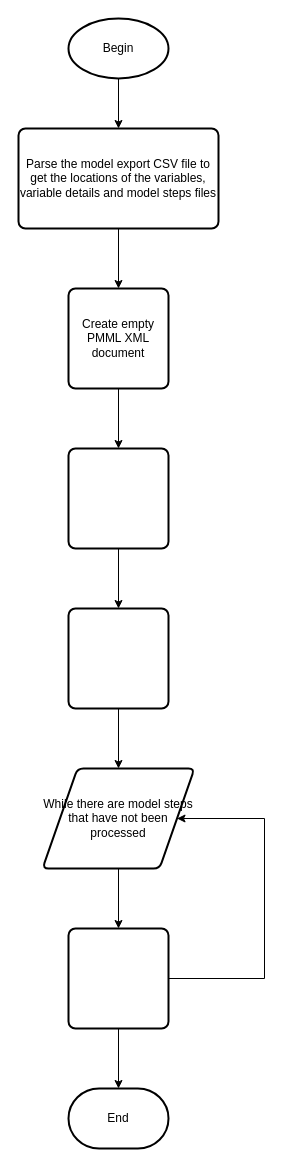
The diagram is 290 pixels wide and 1166 high, and some of its shapes have lost their labels. Each missing label, with the centre of its shape:
"Update PMML document with nodes for the current model step" belongs at pixel 118 978.
"Update PMML document with nodes from variable details sheet" belongs at pixel 118 658.
"Update PMML document with nodes from variables sheet" belongs at pixel 118 498.
